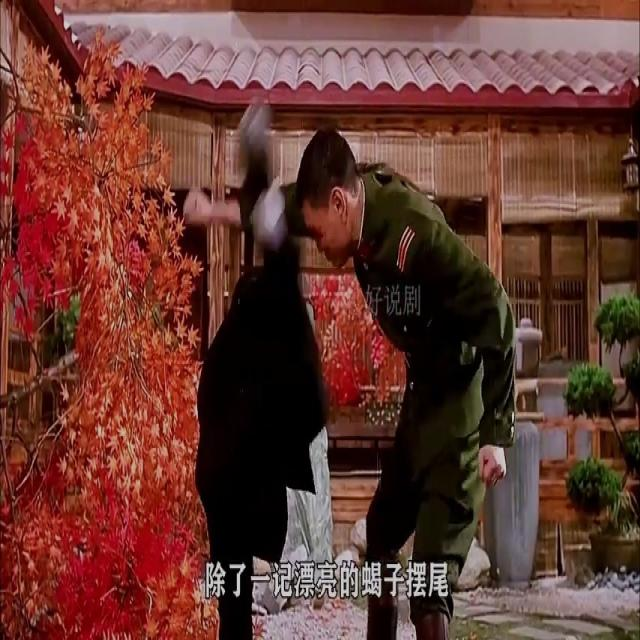fight: (180, 92, 522, 639)
